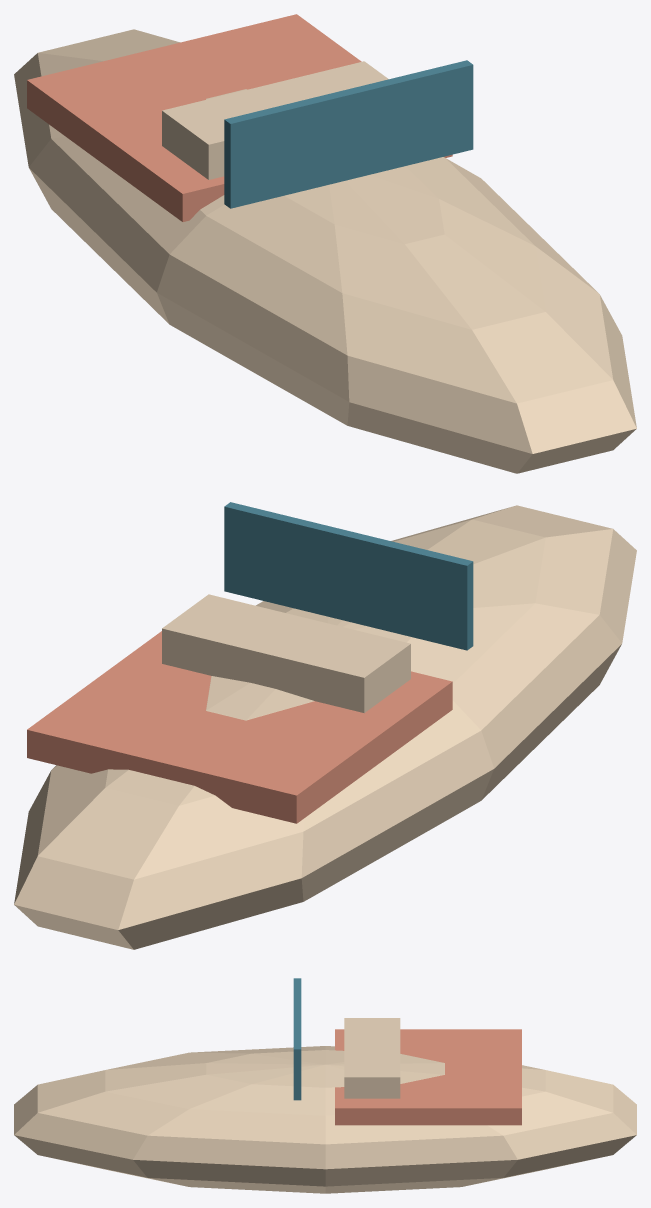
File: speedboat.obj
The picture shows the model from 3 angles, top to bottom: view 1: azimuth 30°, elevation 25°; view 2: azimuth 150°, elevation 25°; view 3: azimuth 270°, elevation 25°; orthographic projection. The views are drawn at different scales.
Parts seen in each view (by area): view 1: speedboat; view 2: speedboat; view 3: speedboat.
Boxes of the visible parts, <box> form: speedboat: <box>14,14,636,473</box>; speedboat: <box>14,502,636,949</box>; speedboat: <box>14,978,636,1193</box>.
Size of the model in its own units: 2.5 by 1.9 by 6.66.
